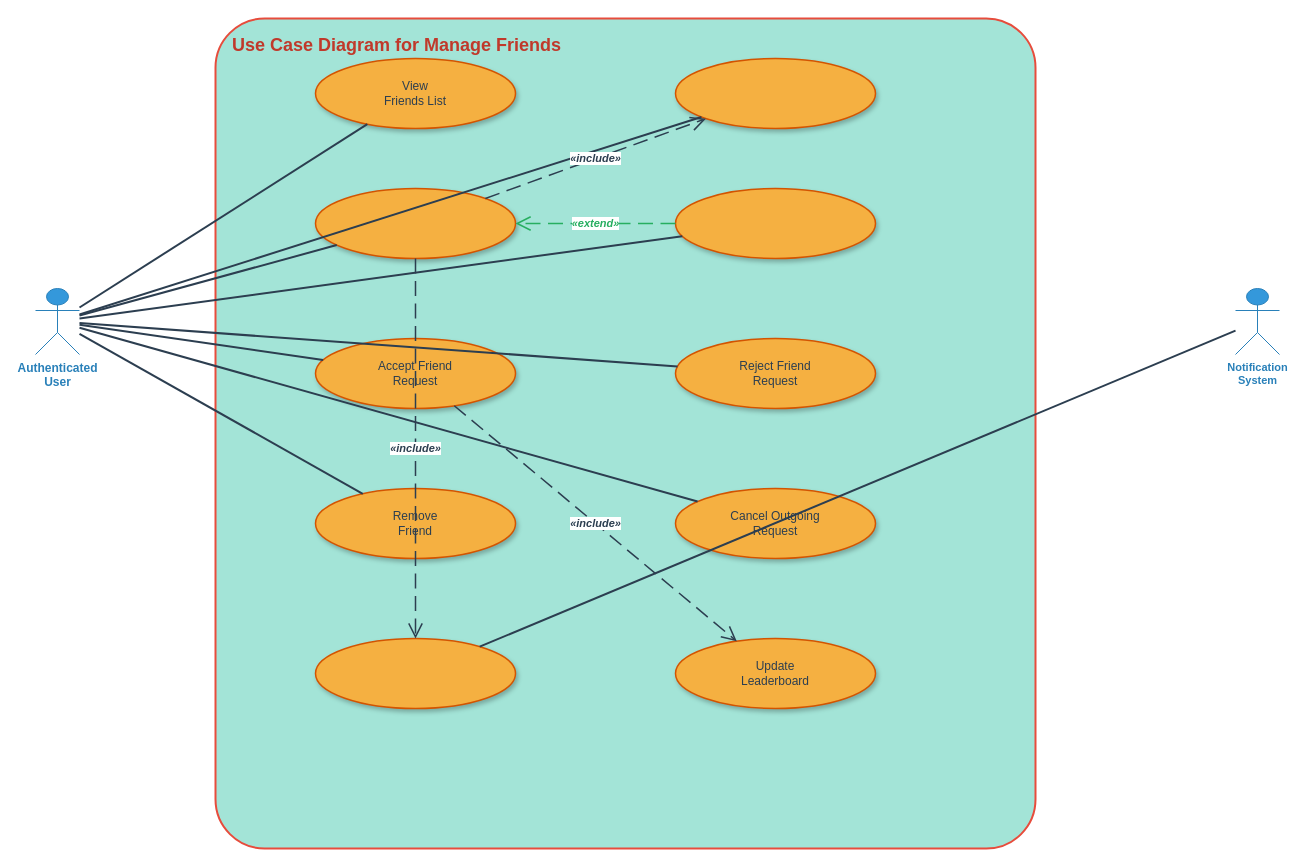
This 1305x866 diagram has some shape labels left out. Here are the shapes that lost their labels. From the top down, the centre of each, then its label:
(x=776, y=94): Search Users
(x=416, y=224): Send Friend Request
(x=776, y=224): Share Invite Link
(x=416, y=674): Send Notification
